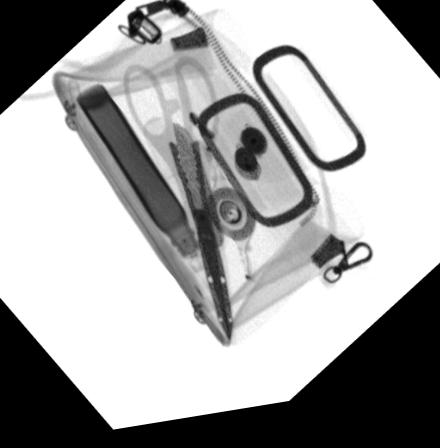Scissors: (120, 62, 232, 349)
